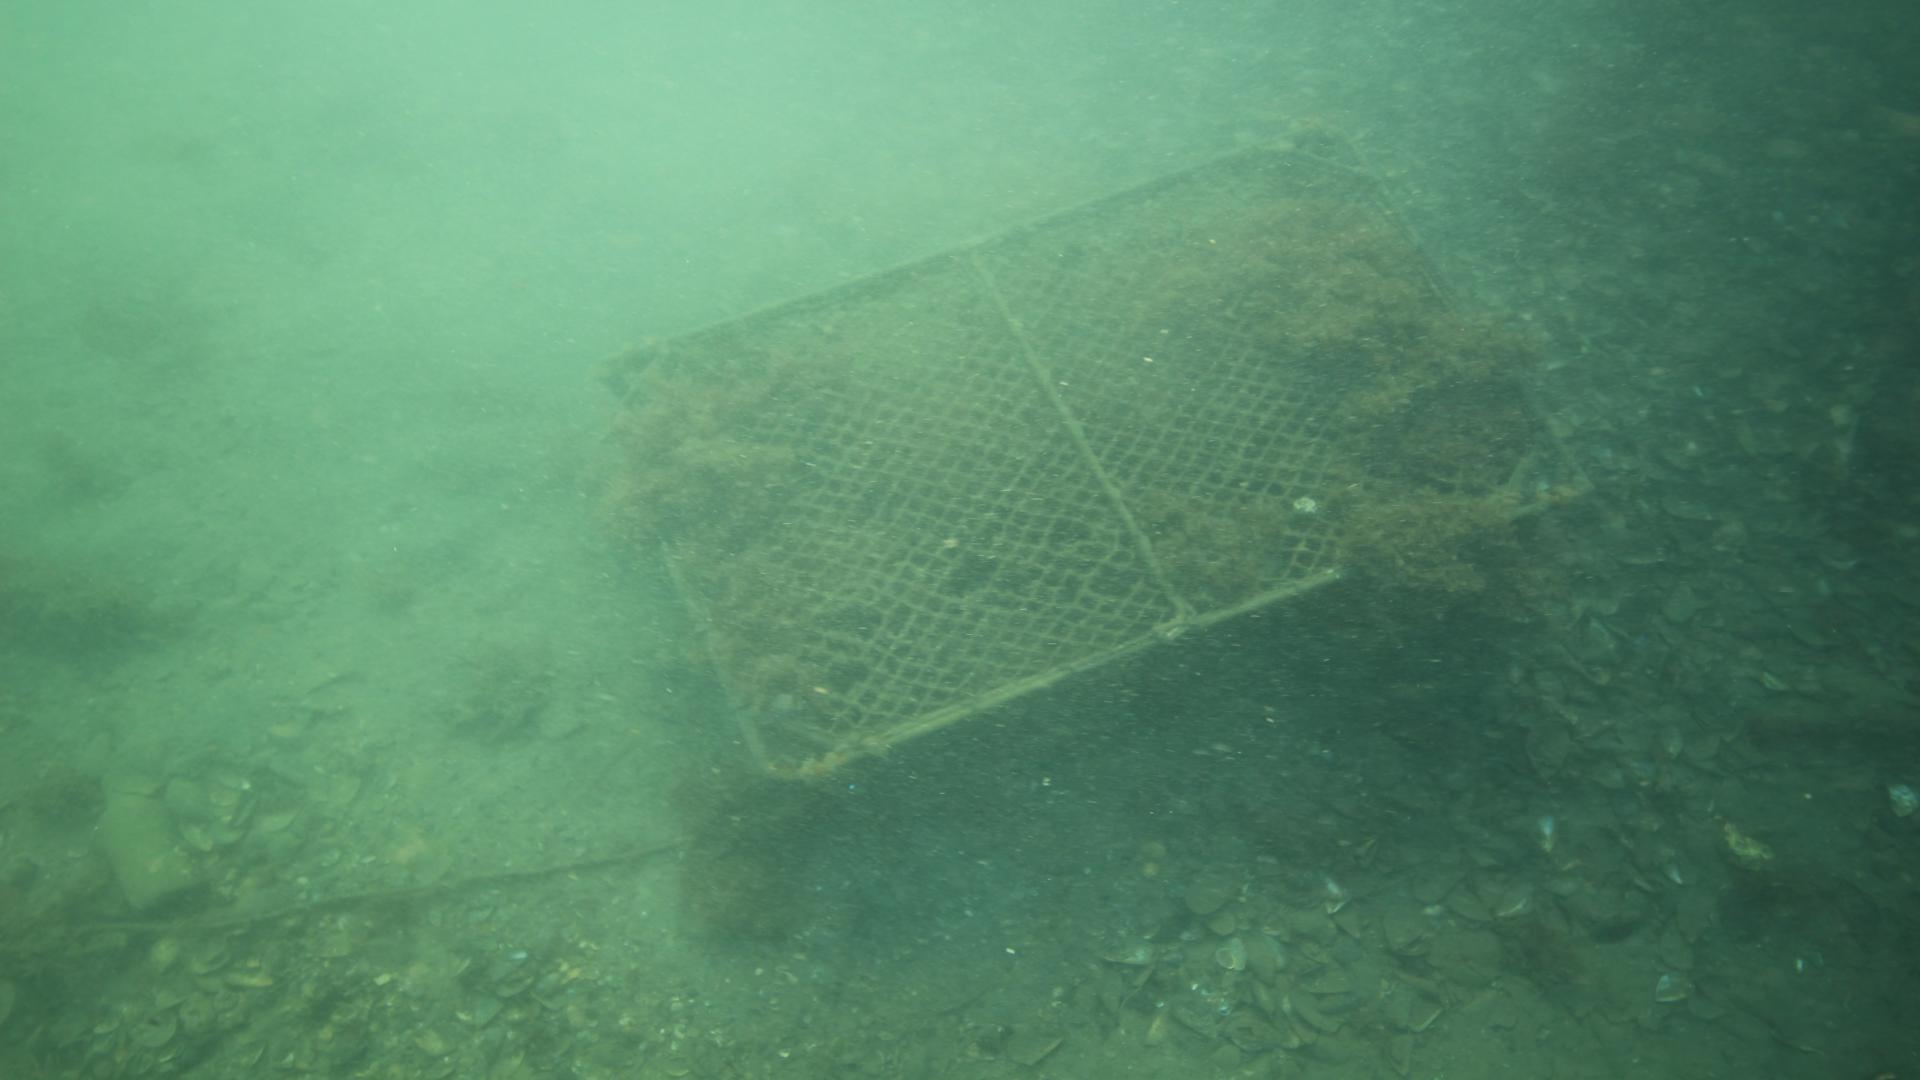rectangular fish trap: (597, 127, 1602, 782)
